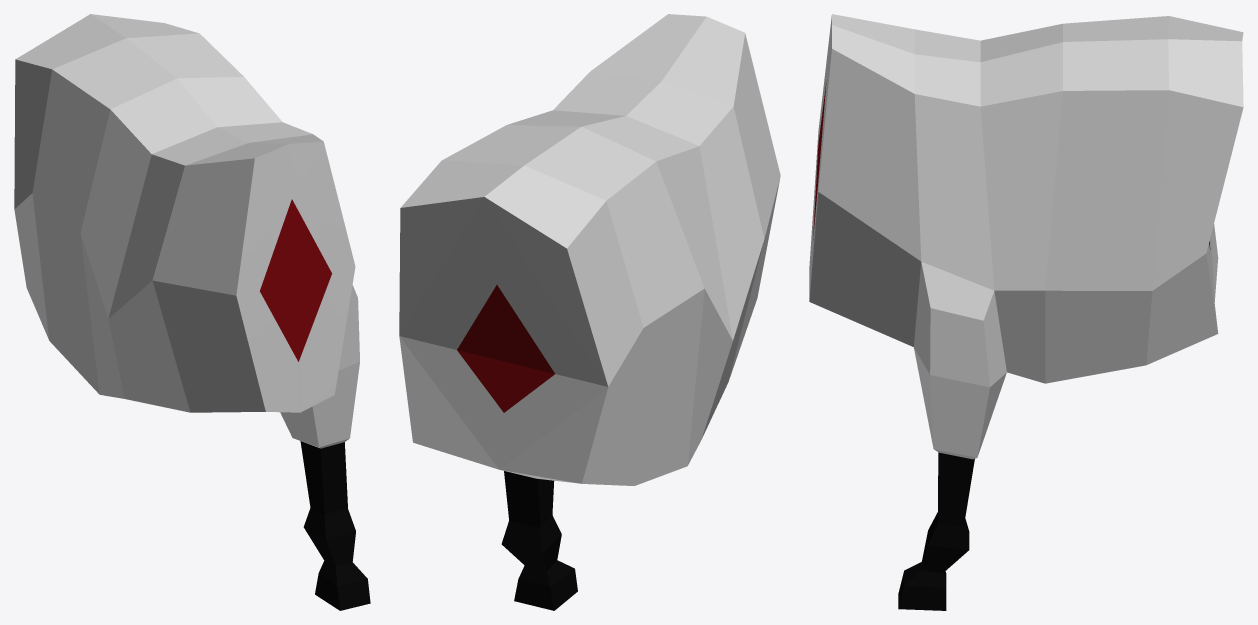
File: busto_pecora.fbx
3 views of the same model, side by side, from view 1: azimuth 30°, elevation 25°; view 2: azimuth 150°, elevation 25°; view 3: azimuth 270°, elevation 25° (orthographic). The views are drawn at different scales.
Visible parts, largest first — view 1: Busto_Pecora; view 2: Busto_Pecora; view 3: Busto_Pecora.
Boxes of the visible parts, bbox=[...] form: Busto_Pecora: bbox=[14, 14, 370, 610]; Busto_Pecora: bbox=[399, 14, 780, 610]; Busto_Pecora: bbox=[809, 14, 1243, 610].
Size of the model in its own units: 191 by 418 by 312.
